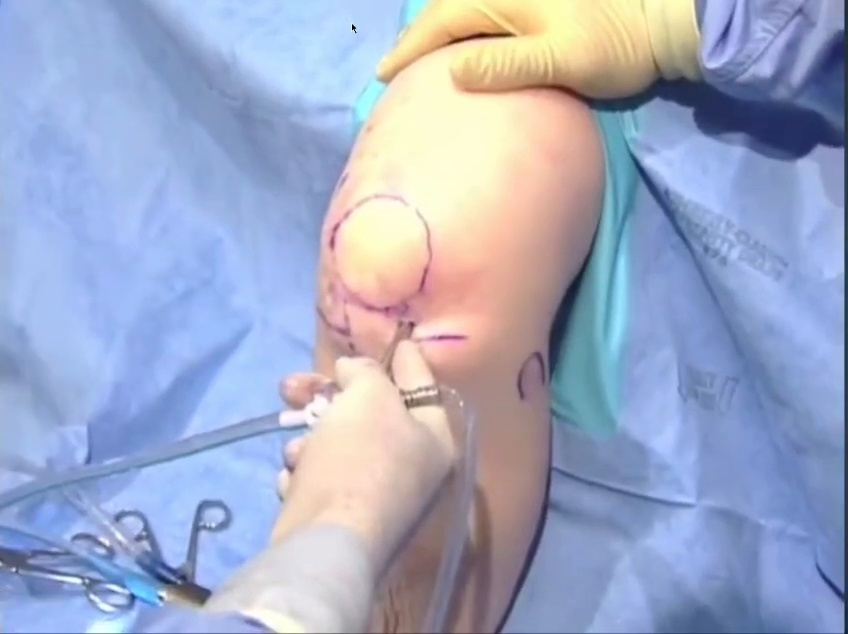arthroscope: (424, 0, 772, 634), (125, 140, 402, 499)
probe: (684, 113, 848, 634), (591, 0, 848, 103), (23, 236, 107, 454), (89, 131, 187, 200)
